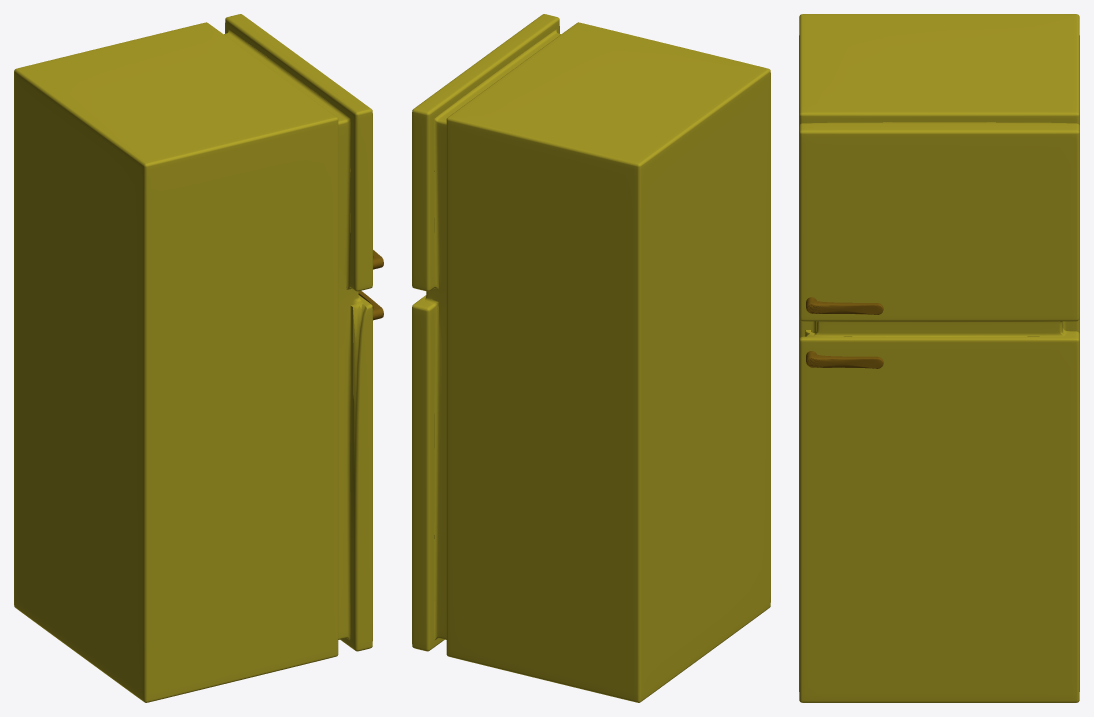
Rendered from fridge1.fbx.
3 views of the same model, side by side, from view 1: azimuth 30°, elevation 25°; view 2: azimuth 150°, elevation 25°; view 3: azimuth 270°, elevation 25° (orthographic). The views are drawn at different scales.
Parts seen in each view (by area): view 1: Cylinder; view 2: Cylinder; view 3: Cylinder.
Part boxes in pixels (x1,y1,x2,y2): Cylinder: (14, 14, 383, 702); Cylinder: (412, 14, 770, 702); Cylinder: (799, 14, 1079, 702).
Size of the model in its own units: 2.14 by 4.5 by 2.
